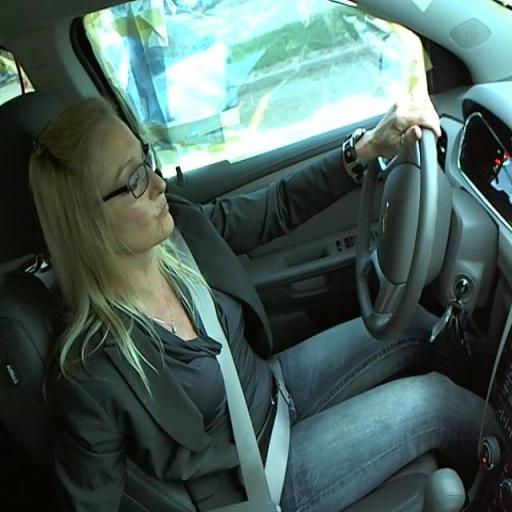turning: (24, 93, 452, 440)
